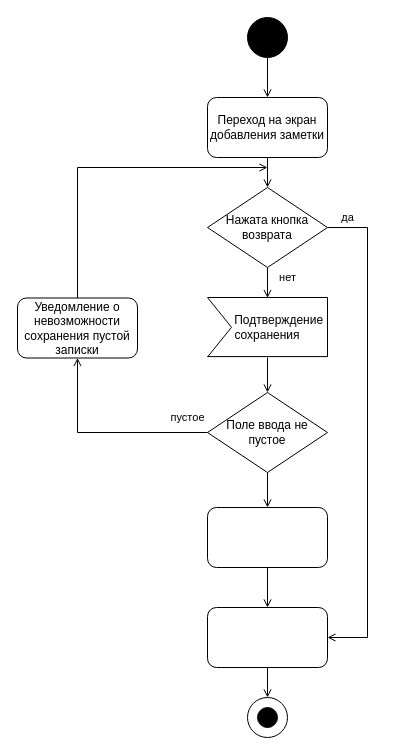
Image size: 393x755. Some labels were removed from this diagram. Here are the shapes that lost their labels. From the top down, the centre of each, then its label:
At (x=267, y=537): "Сохранение заметки".
At (x=267, y=637): "Возвращение к списку заметок".
